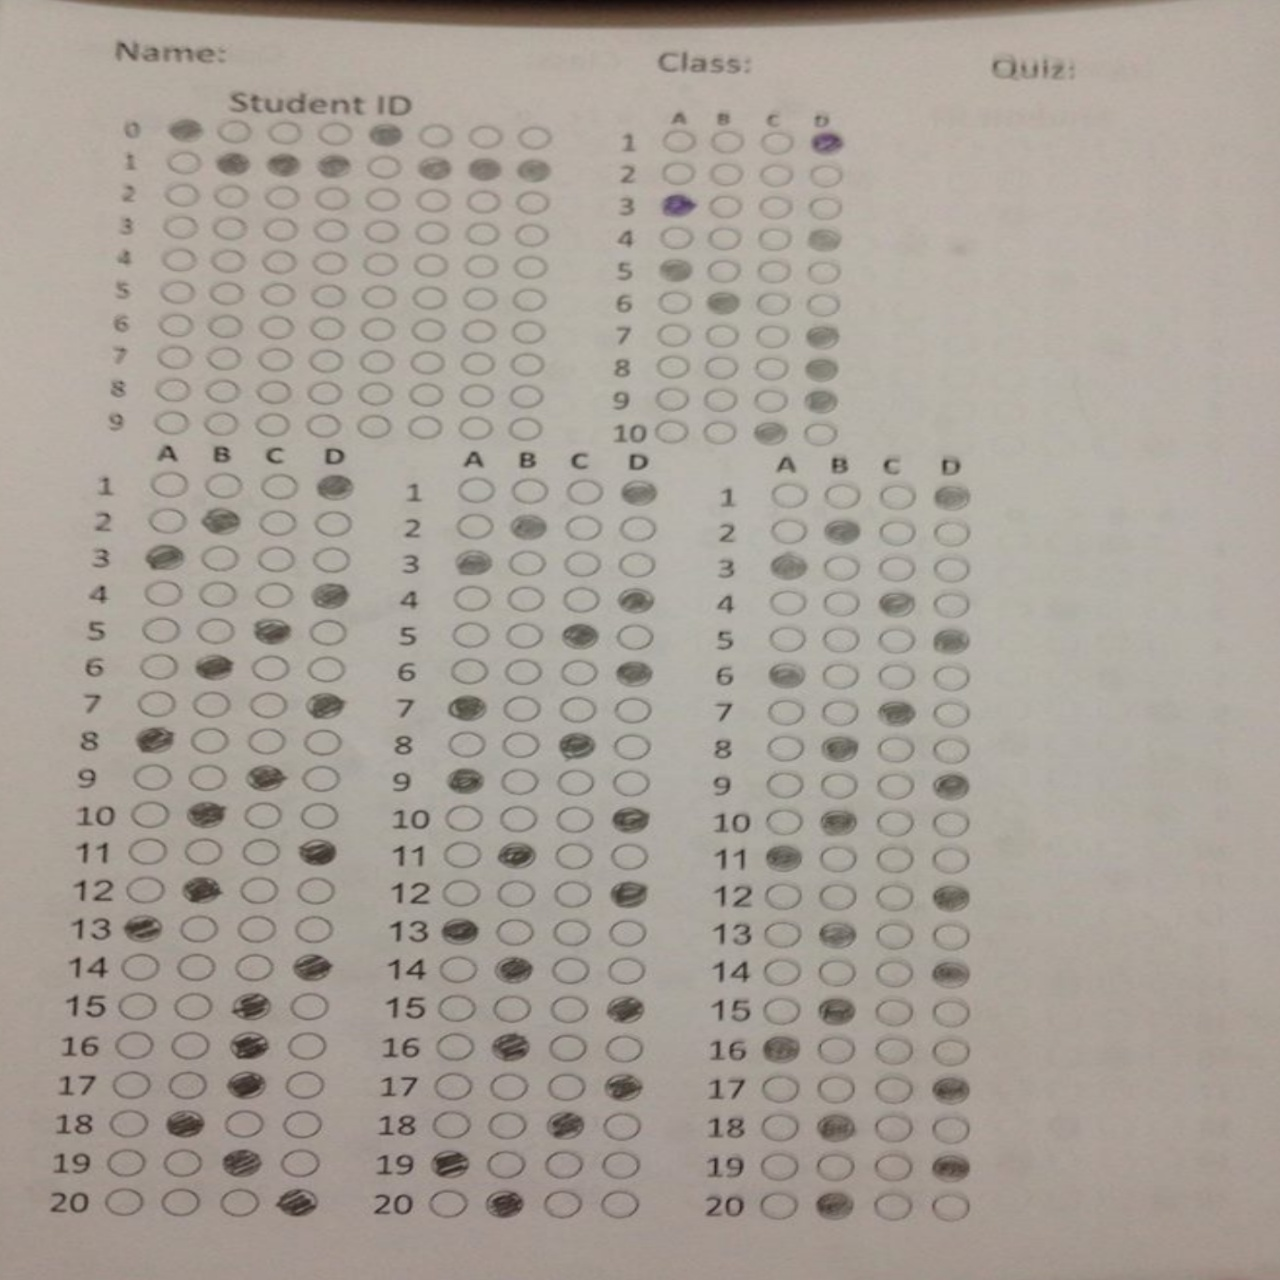not-c: (431, 1032, 481, 1065), (926, 1191, 979, 1223), (216, 1187, 266, 1219), (599, 1032, 644, 1065), (599, 1150, 644, 1184), (120, 874, 166, 906), (813, 956, 862, 987), (930, 996, 974, 1029), (928, 1116, 974, 1148), (537, 1191, 586, 1220), (871, 1073, 912, 1108), (278, 1111, 325, 1142), (606, 918, 651, 949), (434, 992, 478, 1023), (549, 877, 597, 906), (874, 1187, 914, 1223), (563, 477, 608, 508), (176, 913, 218, 946), (101, 1148, 150, 1176), (202, 470, 248, 499), (299, 764, 346, 794), (181, 836, 225, 866), (544, 1032, 588, 1062), (483, 1110, 527, 1141), (930, 844, 974, 874), (556, 658, 595, 692), (275, 1148, 324, 1176), (298, 803, 343, 832), (550, 840, 595, 870), (874, 518, 920, 547), (169, 1028, 211, 1060), (546, 1070, 588, 1102), (816, 843, 859, 873), (436, 840, 483, 869), (819, 1073, 859, 1105), (551, 918, 595, 947), (237, 874, 278, 906), (113, 1029, 154, 1061), (561, 549, 602, 580), (492, 994, 535, 1024), (876, 554, 921, 583), (618, 550, 661, 579), (614, 622, 658, 652), (441, 804, 484, 833), (816, 881, 859, 911), (757, 1191, 801, 1220), (543, 1150, 581, 1183), (611, 770, 658, 797), (234, 952, 274, 983), (823, 625, 863, 656), (931, 662, 971, 694), (933, 699, 973, 730), (874, 996, 914, 1028), (286, 993, 331, 1021), (424, 1191, 469, 1219), (756, 996, 801, 1024), (260, 470, 301, 501), (186, 763, 229, 792), (118, 954, 161, 983), (563, 585, 605, 614), (546, 995, 588, 1024), (879, 482, 921, 511), (764, 625, 806, 654), (101, 1189, 147, 1216), (501, 697, 546, 724), (438, 881, 484, 908), (493, 915, 531, 948), (295, 874, 334, 906), (456, 475, 495, 506), (250, 654, 293, 682), (563, 516, 606, 544), (605, 958, 648, 986), (428, 1110, 471, 1138), (816, 661, 859, 689), (874, 1037, 918, 1065), (756, 1076, 799, 1104), (250, 689, 290, 720), (434, 1070, 474, 1101), (874, 626, 914, 656), (196, 580, 237, 610), (125, 836, 166, 865), (505, 585, 546, 614), (503, 656, 544, 686), (932, 1037, 973, 1067), (111, 1073, 156, 1099), (599, 1191, 644, 1218), (291, 915, 333, 944), (178, 951, 216, 982), (165, 1073, 207, 1101), (549, 955, 591, 983), (601, 1114, 644, 1142), (876, 921, 918, 949), (763, 955, 801, 987), (757, 1114, 799, 1142), (135, 654, 183, 679), (250, 583, 295, 608), (284, 1073, 329, 1098), (761, 1151, 799, 1182), (132, 689, 176, 716), (763, 736, 806, 763), (871, 1155, 914, 1182), (243, 837, 282, 866), (238, 914, 278, 944), (118, 990, 158, 1020), (451, 584, 491, 613), (132, 765, 173, 794), (933, 518, 974, 546), (930, 925, 971, 953), (817, 1035, 858, 1063), (143, 617, 181, 647), (130, 799, 168, 830), (313, 545, 355, 572), (301, 728, 343, 755), (608, 845, 651, 872), (931, 592, 973, 619), (451, 658, 490, 687), (876, 1114, 914, 1143), (141, 580, 181, 608), (163, 1189, 203, 1217), (147, 506, 190, 532), (930, 811, 973, 837), (823, 552, 859, 583), (256, 508, 297, 535), (256, 545, 297, 572), (700, 384, 741, 411), (488, 1074, 529, 1101), (770, 516, 811, 543), (765, 772, 806, 799), (150, 470, 188, 499), (248, 727, 286, 756), (226, 1110, 264, 1139), (873, 959, 911, 988), (305, 411, 343, 440), (192, 692, 231, 720), (111, 1110, 150, 1138), (620, 516, 659, 544), (819, 771, 858, 799), (817, 1153, 856, 1182), (876, 884, 915, 911), (165, 1148, 200, 1178), (558, 806, 593, 837), (937, 735, 973, 764), (159, 182, 200, 207), (459, 318, 501, 343), (508, 319, 549, 345), (440, 956, 481, 982), (821, 591, 862, 617), (877, 737, 918, 763), (267, 120, 305, 148), (256, 413, 293, 441), (808, 197, 845, 225), (312, 186, 350, 213), (462, 350, 501, 377), (192, 726, 231, 753), (560, 697, 599, 724), (768, 588, 806, 615), (361, 218, 403, 243), (611, 697, 653, 722), (501, 770, 543, 795), (175, 992, 210, 1021), (768, 697, 803, 727), (413, 189, 452, 215), (556, 770, 595, 796), (874, 774, 914, 799), (761, 808, 801, 833), (202, 545, 238, 573), (762, 128, 798, 156), (211, 181, 248, 207), (515, 222, 552, 248), (157, 311, 195, 338), (511, 350, 549, 377), (703, 353, 741, 380), (501, 805, 538, 832), (202, 380, 243, 404), (193, 618, 234, 642), (307, 621, 348, 646), (754, 259, 795, 284), (509, 478, 550, 503), (873, 811, 914, 836), (316, 121, 355, 147), (309, 282, 348, 308), (203, 345, 241, 370), (243, 803, 281, 829), (614, 734, 653, 760), (205, 410, 240, 438), (459, 414, 495, 442), (772, 482, 808, 510), (513, 190, 553, 215), (367, 154, 403, 181), (307, 658, 343, 685), (290, 1032, 326, 1058), (498, 881, 535, 908), (256, 380, 293, 406), (756, 324, 794, 349), (873, 847, 911, 873), (763, 921, 801, 947), (459, 256, 501, 279), (881, 663, 915, 692), (363, 251, 402, 275), (408, 319, 447, 343), (658, 290, 693, 316), (703, 322, 738, 349), (655, 384, 690, 411), (451, 624, 496, 645), (486, 1150, 523, 1176), (764, 884, 801, 910), (305, 381, 345, 404), (406, 416, 445, 440), (265, 215, 298, 243), (263, 250, 300, 274), (360, 414, 393, 442), (449, 731, 486, 756), (501, 734, 538, 758), (933, 558, 971, 583), (821, 702, 858, 727), (704, 229, 745, 251), (821, 485, 862, 508), (367, 185, 402, 211), (315, 250, 350, 275), (203, 316, 241, 340), (408, 382, 443, 408), (459, 384, 498, 408), (805, 261, 840, 287), (805, 292, 840, 318), (701, 420, 736, 445), (307, 348, 343, 373), (410, 349, 447, 374), (151, 377, 188, 402), (355, 381, 392, 406), (151, 410, 188, 435), (508, 417, 544, 442), (753, 389, 789, 414), (256, 315, 295, 338), (217, 117, 250, 144), (658, 420, 690, 447), (207, 280, 245, 304), (307, 316, 345, 340), (258, 348, 295, 372), (712, 129, 745, 155), (712, 163, 745, 189), (760, 163, 794, 189), (518, 124, 553, 149), (265, 184, 300, 209), (315, 510, 350, 535), (756, 196, 791, 220), (756, 356, 791, 381), (411, 253, 450, 275), (758, 229, 797, 251), (505, 622, 544, 645), (410, 287, 447, 311), (655, 324, 692, 347), (508, 552, 544, 576), (805, 418, 838, 444), (467, 190, 501, 215), (511, 254, 546, 278), (361, 286, 396, 309), (459, 288, 501, 308), (421, 123, 452, 149), (162, 217, 200, 238), (813, 163, 845, 189), (655, 355, 692, 377), (756, 292, 789, 316), (361, 349, 395, 373), (658, 227, 692, 251), (158, 251, 198, 271), (258, 282, 295, 304), (511, 290, 549, 311), (213, 217, 248, 239), (157, 347, 192, 369), (658, 162, 693, 184), (363, 319, 395, 343), (456, 515, 495, 535), (468, 125, 501, 149), (213, 248, 246, 272), (165, 152, 202, 173), (159, 280, 193, 302), (663, 129, 697, 151), (415, 222, 450, 243), (704, 261, 740, 282), (315, 222, 350, 241), (511, 384, 544, 406), (468, 222, 497, 243), (712, 196, 740, 217)
taken-c: (601, 992, 654, 1027), (754, 1032, 804, 1065), (602, 803, 656, 835), (926, 1073, 973, 1109), (484, 1032, 533, 1065), (924, 771, 974, 804), (610, 585, 661, 617), (605, 878, 656, 910), (222, 1029, 273, 1061), (274, 1184, 324, 1217), (245, 614, 295, 646), (809, 1186, 852, 1223), (931, 481, 976, 515), (436, 915, 483, 948), (125, 726, 176, 756), (245, 760, 290, 794), (611, 658, 658, 689), (930, 881, 976, 913), (441, 694, 491, 723), (302, 579, 350, 610), (162, 113, 207, 144), (928, 959, 974, 990), (441, 767, 490, 796), (763, 658, 805, 692), (141, 542, 188, 572), (176, 874, 223, 905), (815, 806, 862, 837), (763, 551, 806, 584), (302, 693, 350, 722), (223, 1068, 268, 1098), (806, 921, 856, 949), (488, 954, 535, 983), (430, 1148, 474, 1179), (120, 913, 165, 942), (288, 951, 334, 980), (813, 1114, 859, 1143), (761, 843, 803, 874), (556, 621, 602, 649), (178, 799, 223, 829), (448, 549, 496, 576), (220, 1148, 263, 1178), (544, 1109, 586, 1139), (486, 1187, 526, 1219), (926, 1153, 971, 1182), (873, 588, 918, 617), (505, 511, 546, 542), (163, 1107, 204, 1137), (553, 730, 595, 760), (813, 995, 856, 1024), (801, 324, 843, 353), (193, 653, 237, 681), (874, 699, 918, 727), (198, 508, 243, 535), (229, 990, 268, 1020), (601, 1073, 644, 1099), (653, 256, 693, 284), (618, 478, 655, 508), (933, 625, 971, 654), (493, 840, 536, 866), (701, 291, 743, 316), (315, 474, 355, 501), (808, 129, 847, 156), (462, 156, 503, 182), (413, 152, 450, 181), (821, 731, 858, 760), (658, 189, 695, 217), (750, 418, 789, 445), (510, 156, 552, 181), (803, 227, 843, 253), (365, 121, 403, 147), (298, 840, 336, 866), (211, 150, 248, 176), (263, 154, 302, 177), (818, 519, 856, 544), (803, 360, 840, 383), (803, 389, 840, 413), (315, 152, 350, 173)
